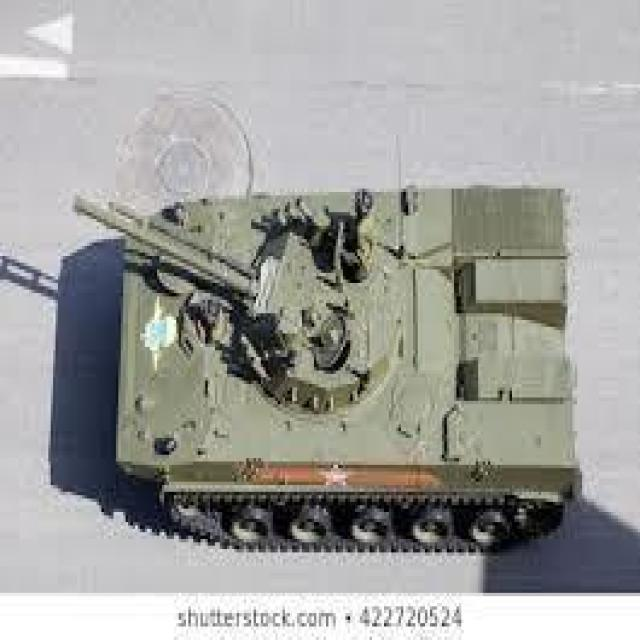Tanks: (75, 155, 580, 556)
